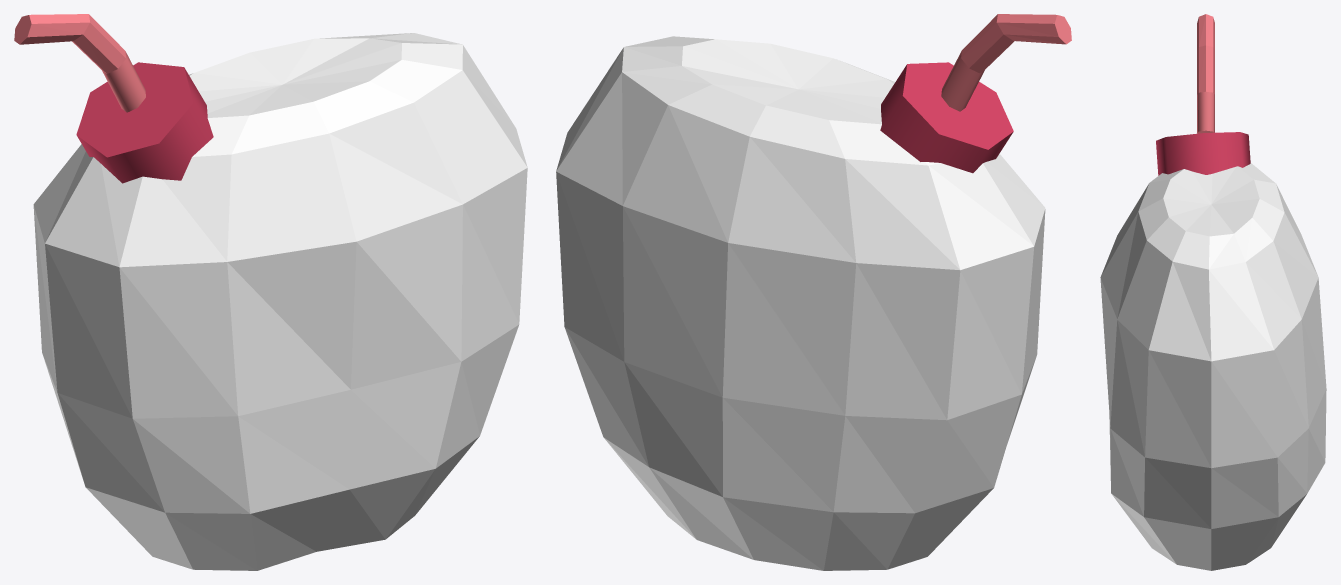
File: corn_bomb_4.fbx
3 renders of one model, left to right at view 1: azimuth 30°, elevation 25°; view 2: azimuth 150°, elevation 25°; view 3: azimuth 270°, elevation 25°, orthographic. The views are drawn at different scales.
Visible parts, largest first — view 1: corn; view 2: corn; view 3: corn.
Part boxes in pixels (left/top/right/bottom): corn: left=14, top=14, right=527, bottom=570; corn: left=556, top=14, right=1071, bottom=570; corn: left=1100, top=14, right=1326, bottom=570.
Size of the model in its own units: 9.65 by 5.14 by 10.56.
